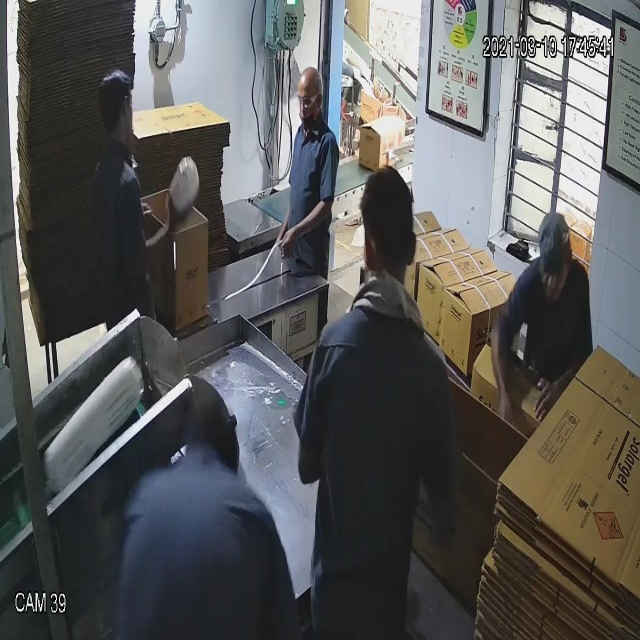Sin_guantes: (142, 159, 202, 292), (275, 187, 334, 273), (480, 311, 516, 429), (527, 356, 574, 426)
